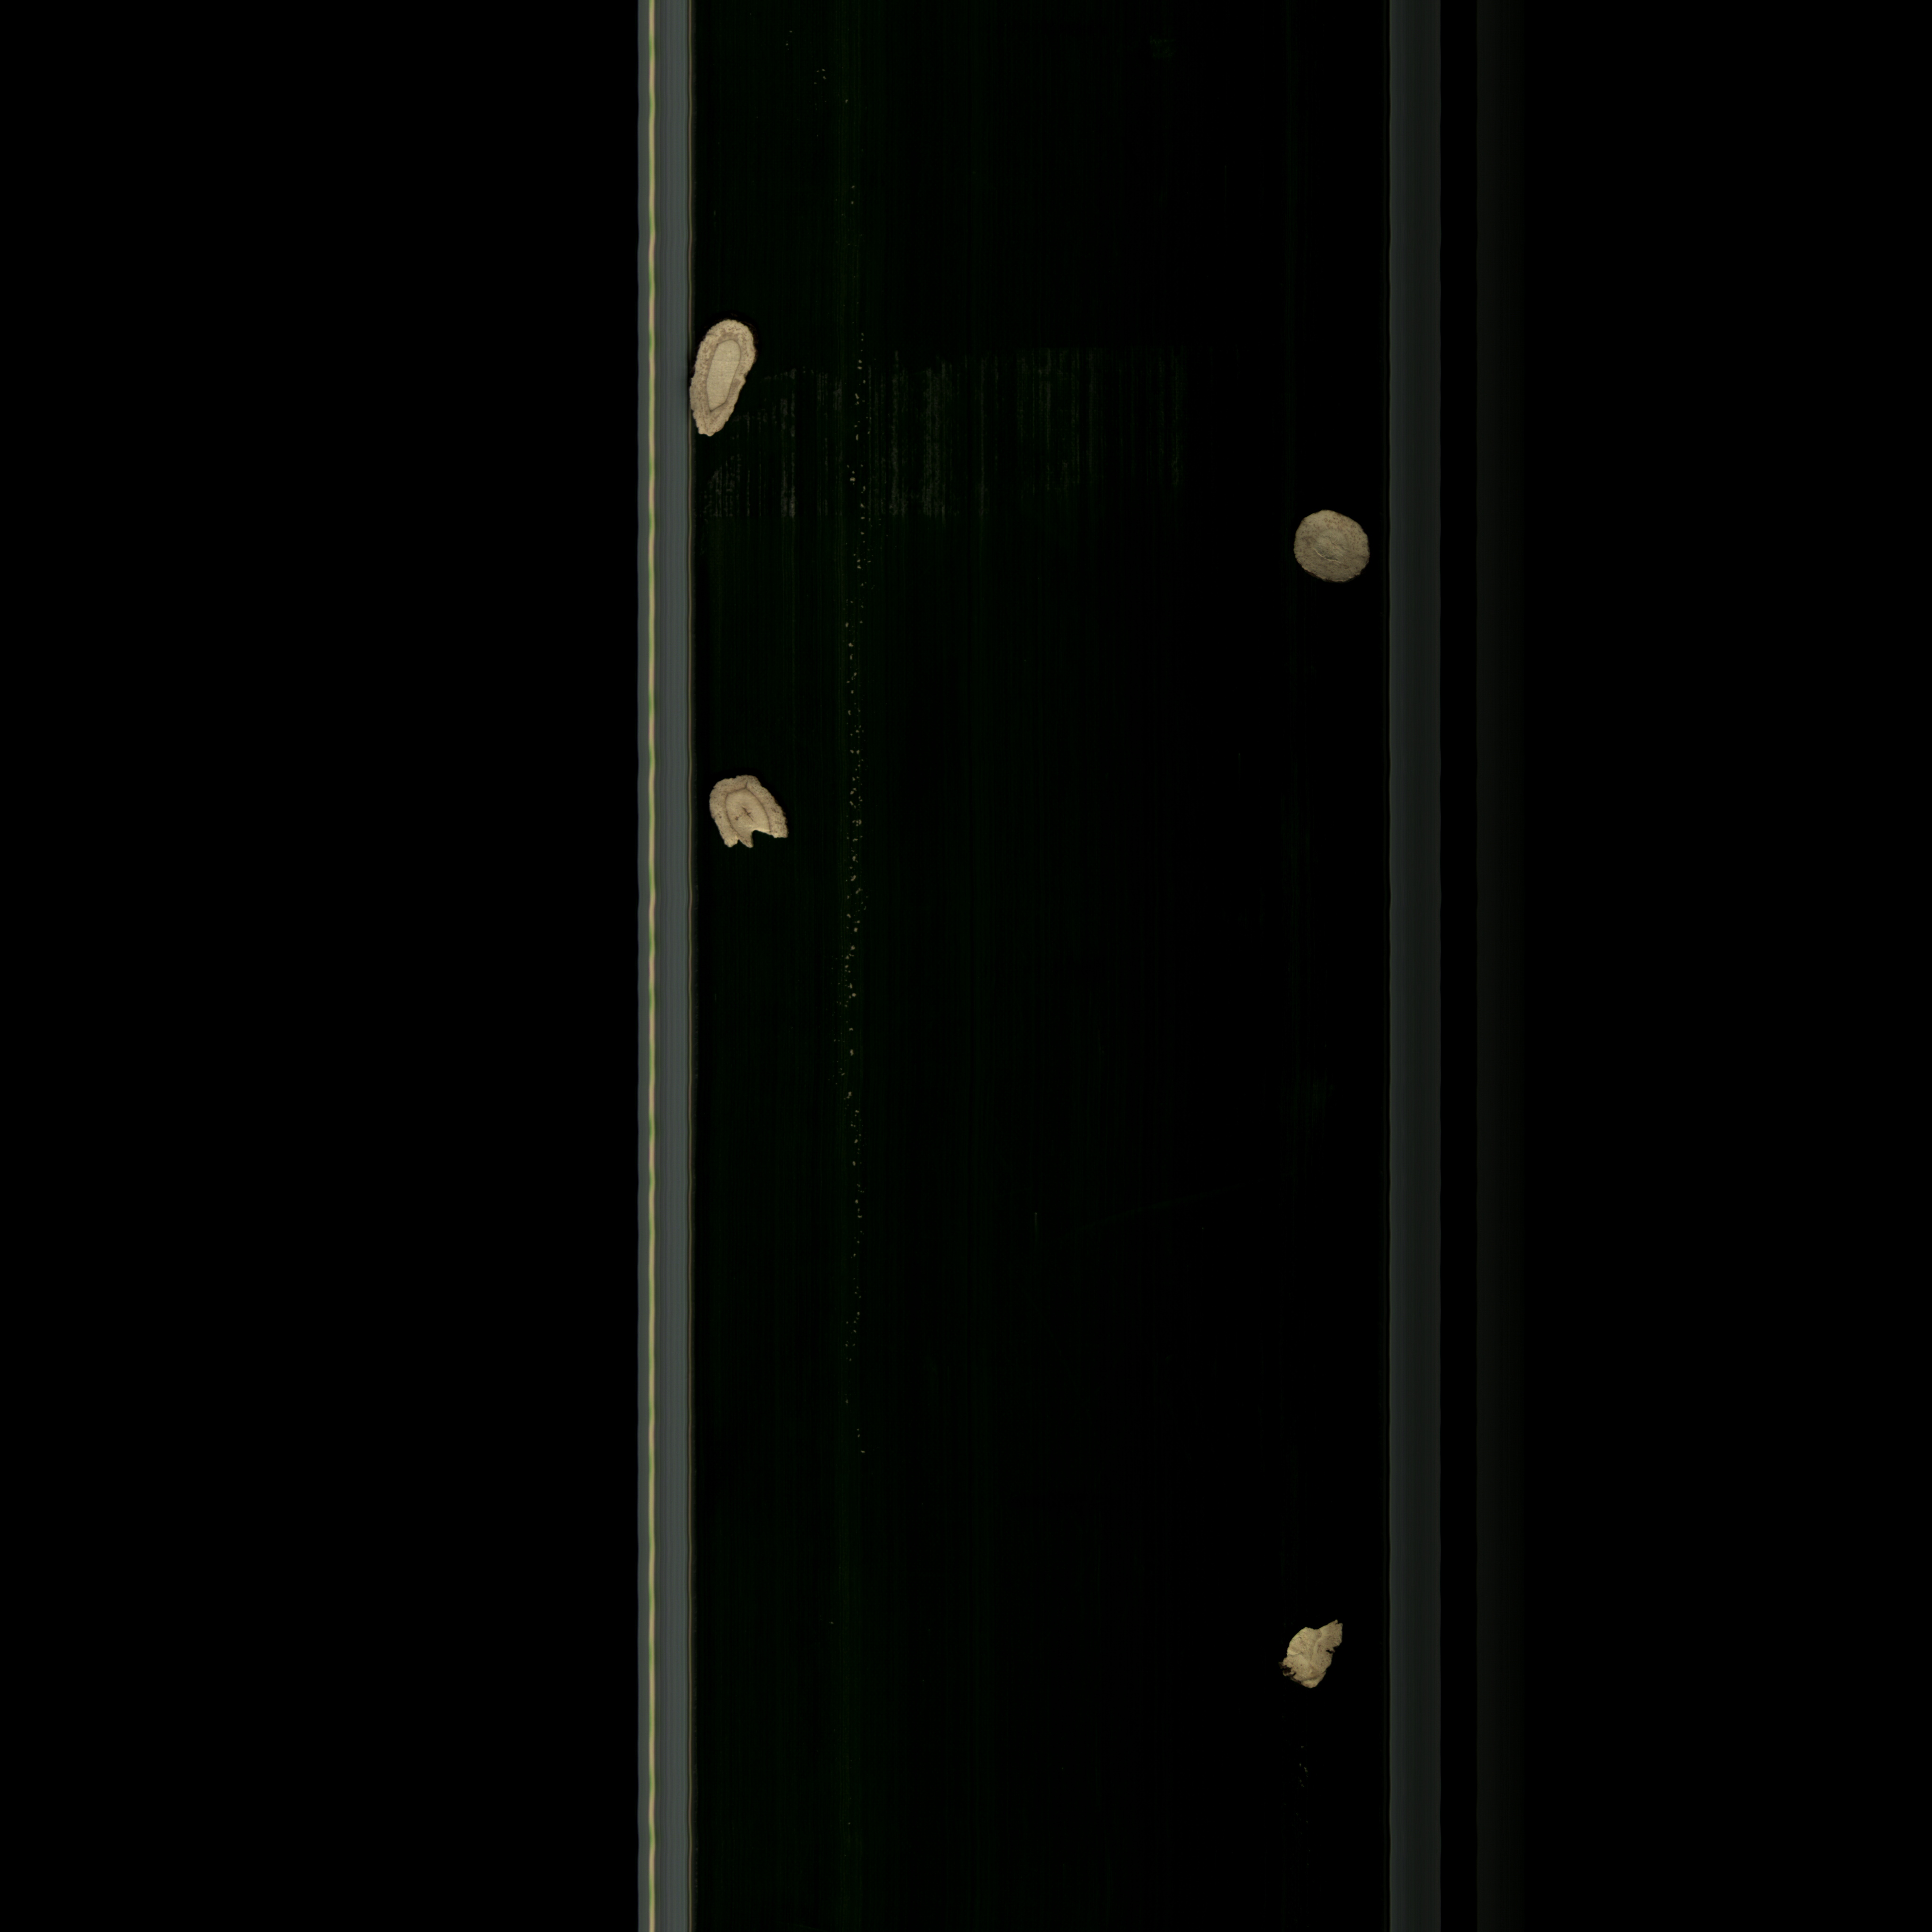distortion: (683, 308, 770, 446)
moldy: (1281, 499, 1373, 600), (708, 766, 805, 860), (1281, 1606, 1353, 1709)
